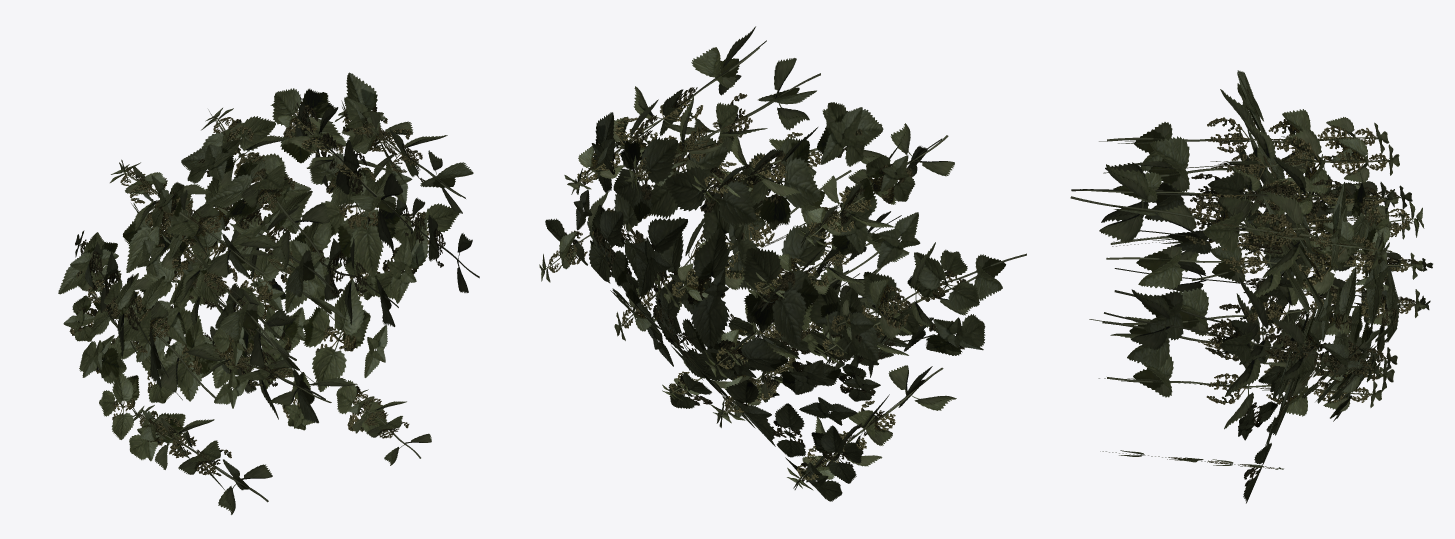
The model's file is TI_StingingNettel_02_2S.fbx.
3 views of the same model, side by side, from view 1: azimuth 30°, elevation 25°; view 2: azimuth 150°, elevation 25°; view 3: azimuth 270°, elevation 25° (orthographic). The views are drawn at different scales.
Parts seen in each view (by area): view 1: TI_StingingNettel_02_2S; view 2: TI_StingingNettel_02_2S; view 3: TI_StingingNettel_02_2S.
Part boxes in pixels (left/top/right/bottom): TI_StingingNettel_02_2S: left=58, top=72, right=479, bottom=514; TI_StingingNettel_02_2S: left=539, top=26, right=1026, bottom=501; TI_StingingNettel_02_2S: left=1070, top=70, right=1432, bottom=503.
Bounding box in the file's own units: 2.05 × 1.81 × 1.48.
